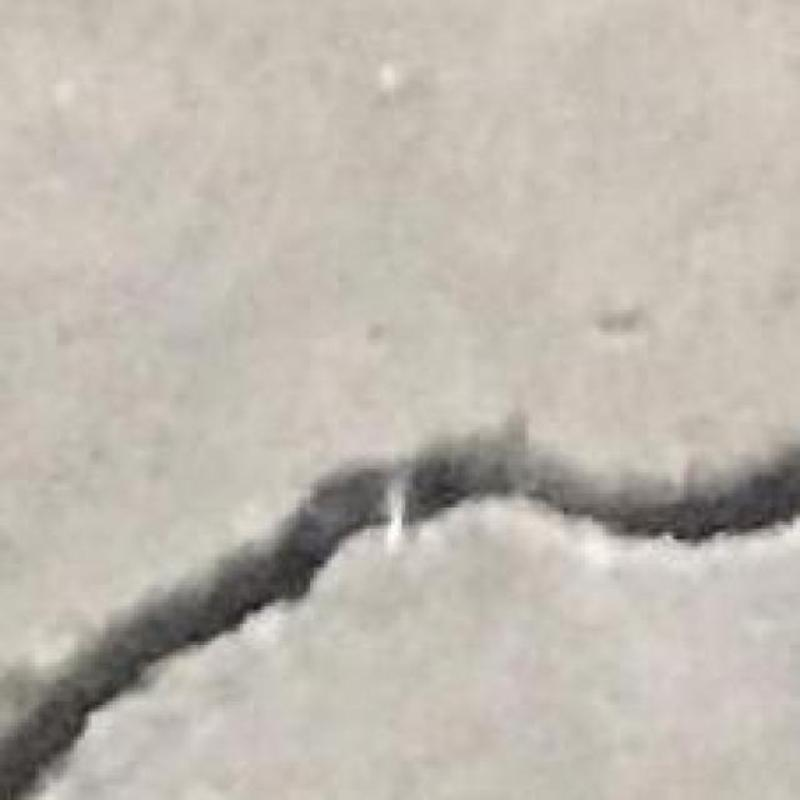pothole: (0, 424, 799, 799)
